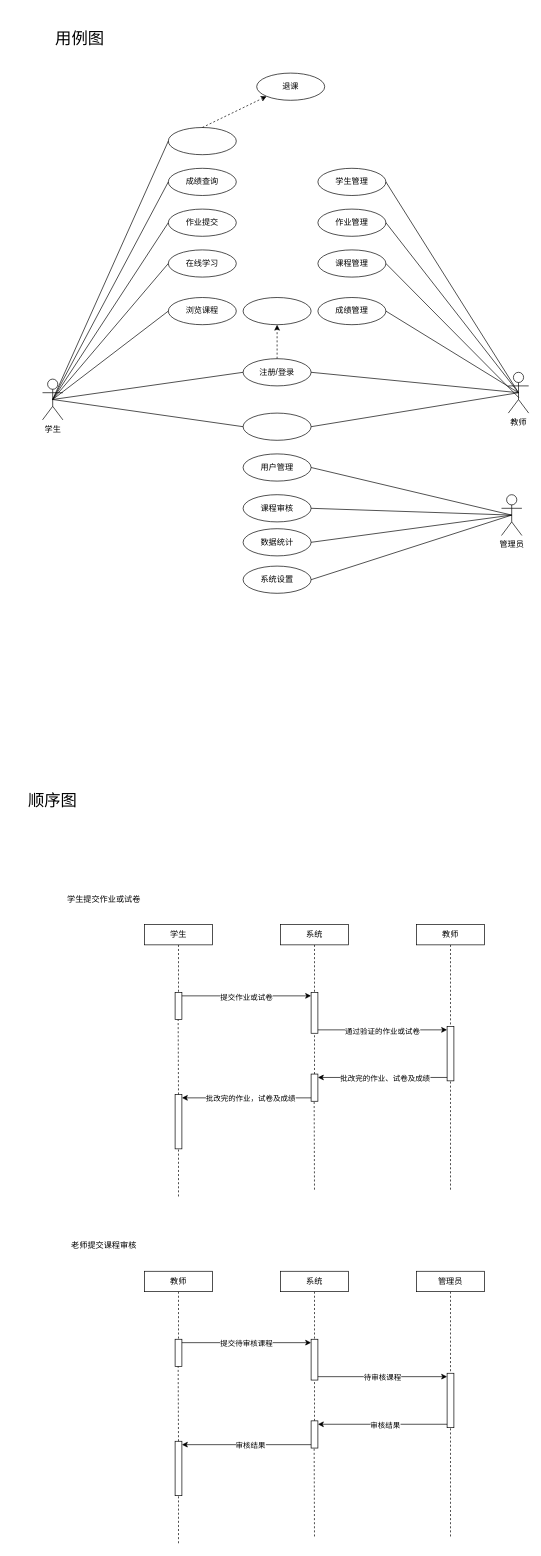
Some shapes in this 541 by 1556 pixel diagram are drawn without their labels. Each missing label, with the centre of its shape:
个人信息管理: the point at 276,426
找回密码: the point at 276,311
选课: the point at 202,141
